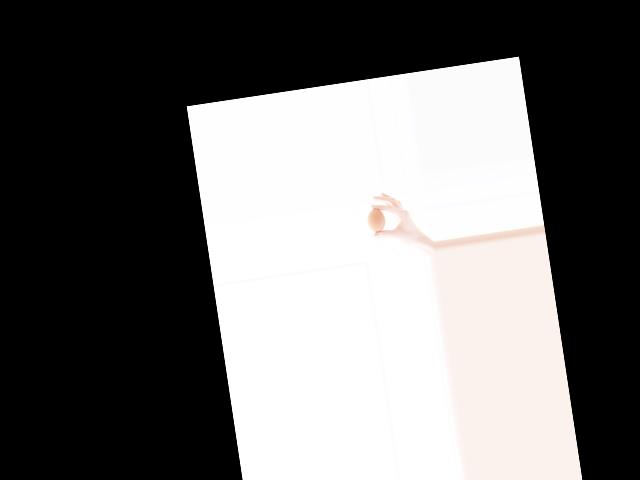egg: (365, 207, 386, 233)
